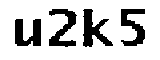2: (47, 8, 78, 51)
5: (118, 6, 148, 50)
k: (81, 5, 116, 49)
u: (11, 17, 44, 51)
